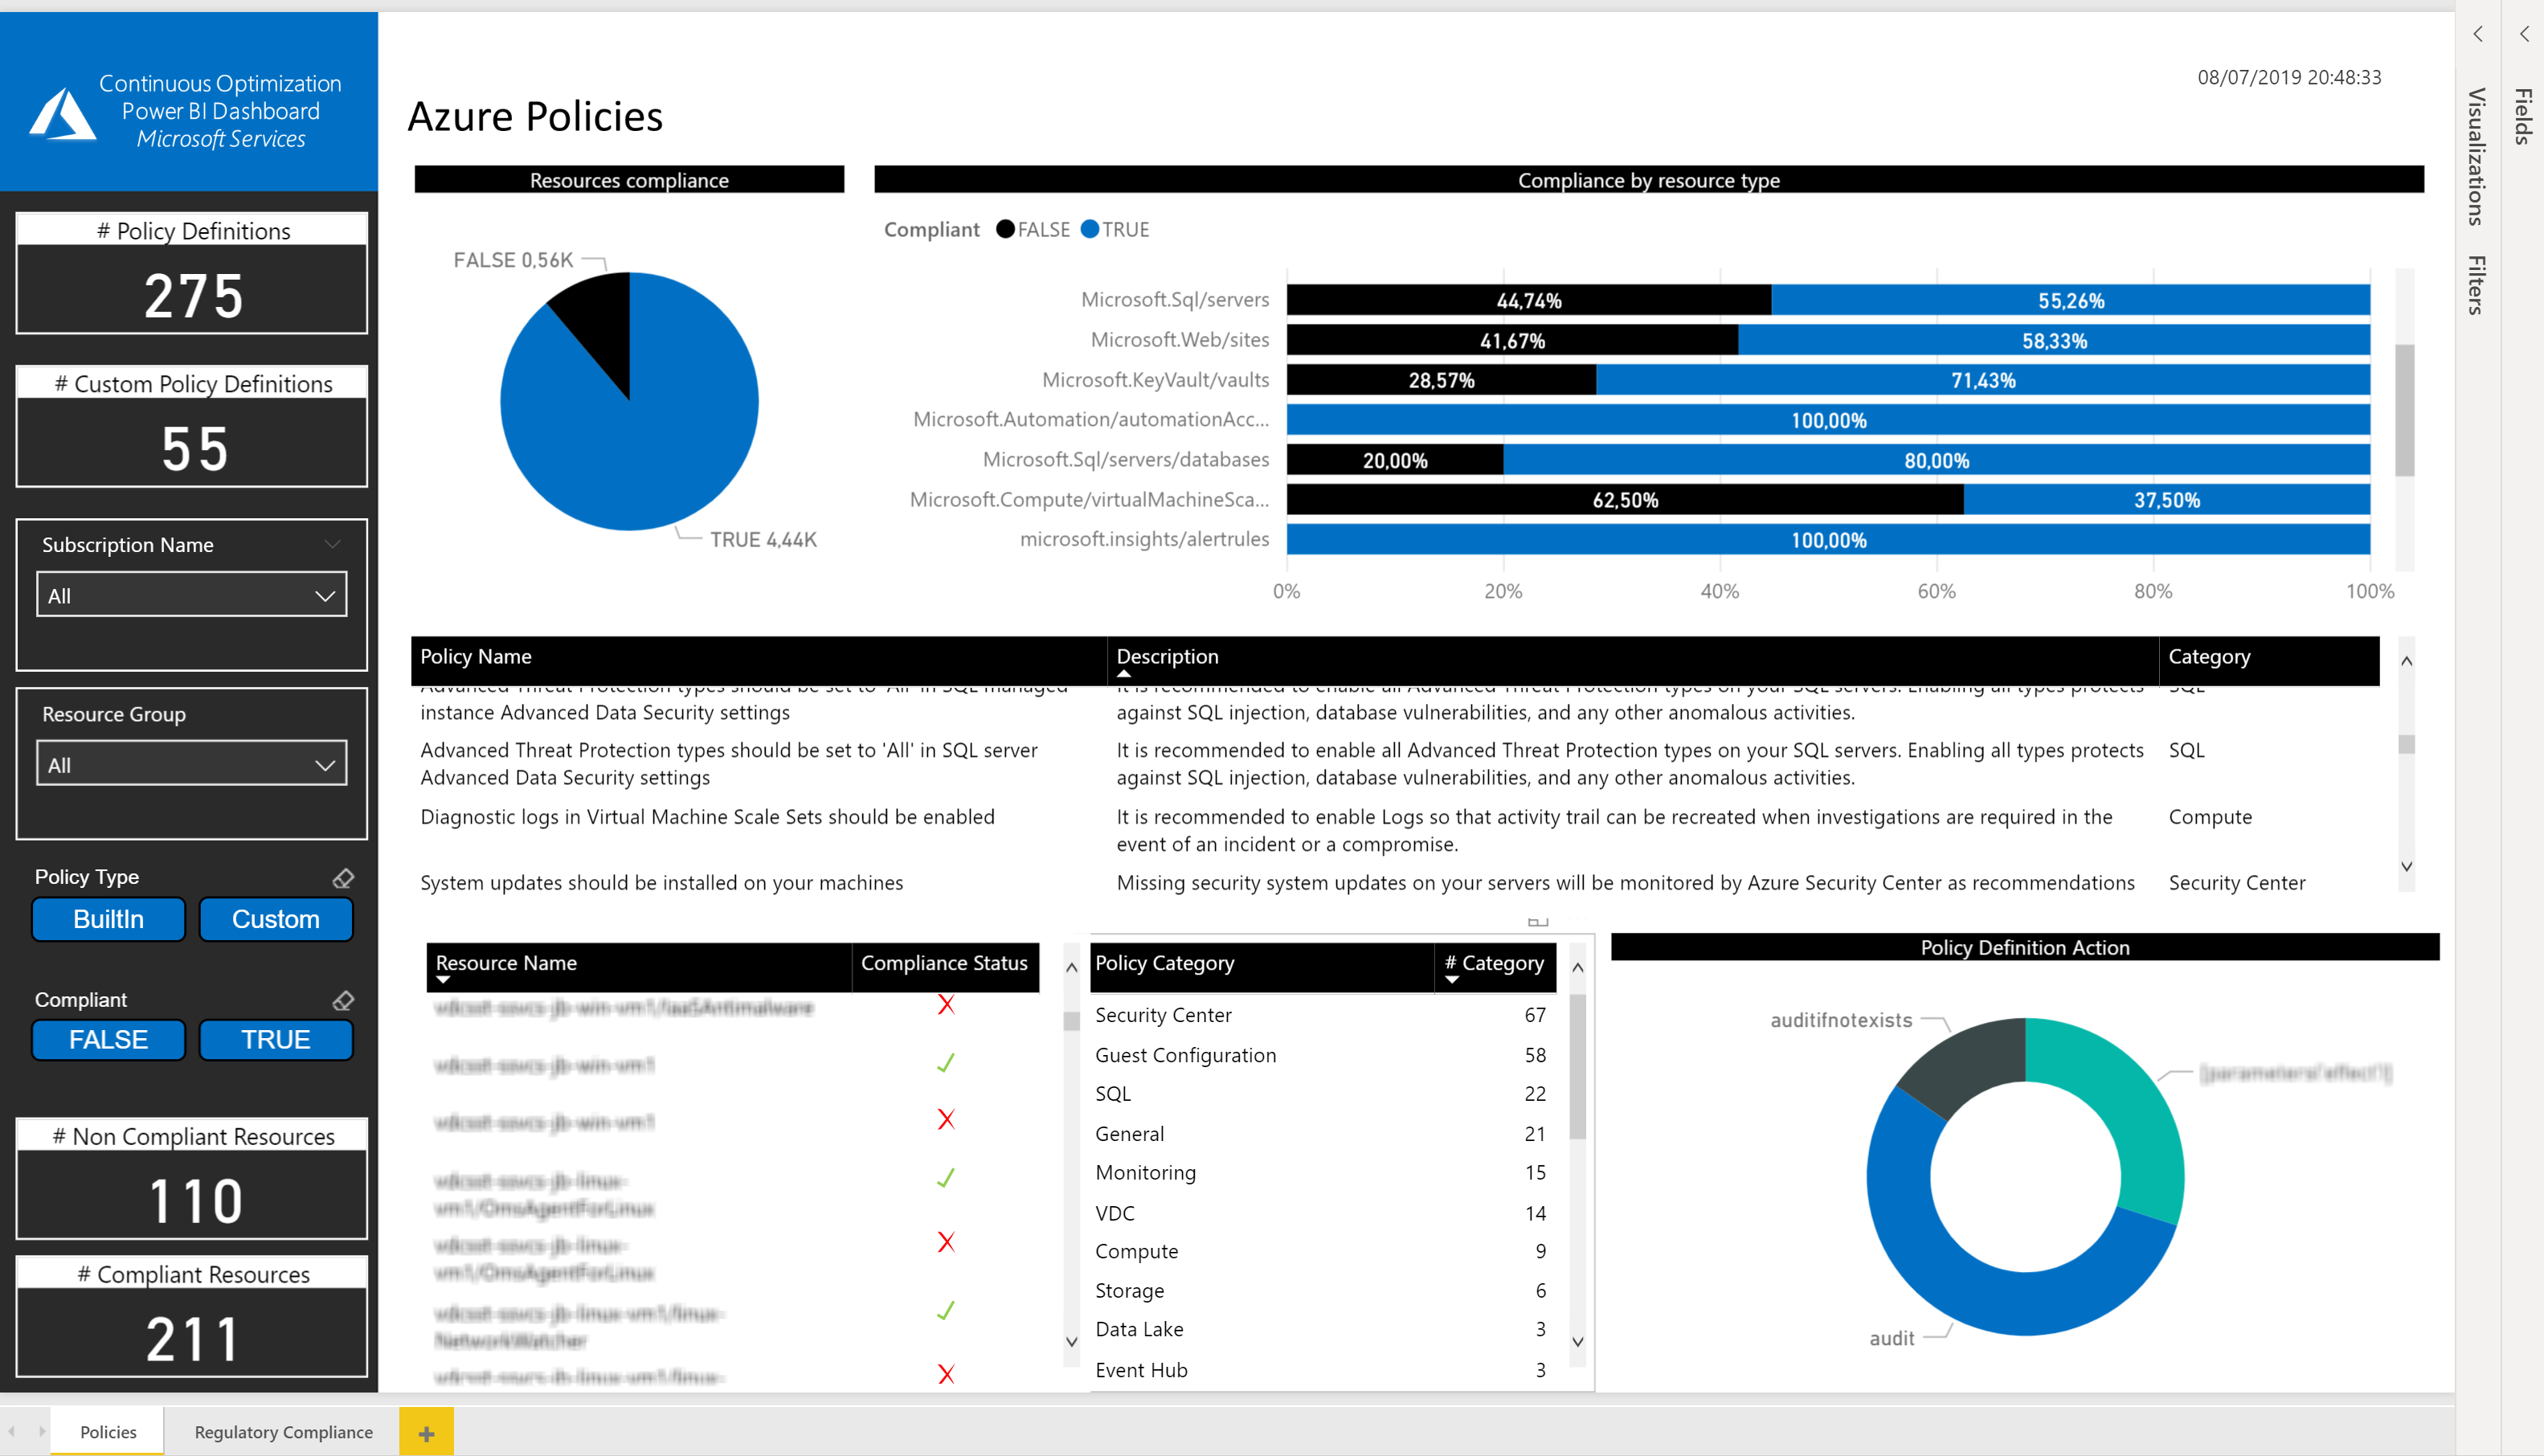

The dashboard page shown, as its layout file describes it:
{"tool":"powerbi","page":{"name":"Policies","canvas":[1280,720],"ordinal":0},"visuals":[{"type":"tableEx","fields":{"Values":["Max(LastRefresh_Local.Refresh)"]},"box":[1134.7,0,145.2,54.2],"z":0},{"type":"tableEx","title":"Policies by category","fields":{"Values":["PolicyDefinitions.category","CountNonNull(PolicyDefinitions.category)"]},"box":[568,480,272,240],"z":1000},{"type":"slicer","fields":{"Values":["Resources.Subscription Name"]},"box":[8,264,184,80],"z":2000},{"type":"ChicletSlicer1448559807354","fields":{"Category":["PolicyDefinitions.policyType"]},"box":[8,456,184,72],"z":3000},{"type":"tableEx","fields":{"Values":["PolicyDefinitions.displayName","PolicyDefinitions.description","PolicyDefinitions.category"]},"box":[208,320,1056,152],"z":4000},{"type":"pieChart","title":"Resources compliance","fields":{"Category":["policies.isCompliant"],"Y":["CountNonNull(policies.isCompliant)"]},"box":[216,80,224,232],"z":5000},{"type":"card","title":"# Policy Definitions","fields":{"Values":["CountNonNull(PolicyDefinitions.Value.id)"]},"box":[8,104,184,64],"z":6000},{"type":"card","title":"# Custom Policy Definitions","fields":{"Values":["CountNonNull(PolicyDefinitions.Value.id)"]},"box":[8,184,184,64],"z":7000},{"type":"hundredPercentStackedBarChart","title":"Compliance by resource type","fields":{"Category":["Resources.Resource Type"],"Y":["CountNonNull(policies.resourceType)"],"Series":["policies.isCompliant"]},"box":[456,80,808,240],"z":8000},{"type":"tableEx","fields":{"Values":["Resources.Resource Name","policies.Compliance Status"]},"box":[216,480,352,240],"z":9000},{"type":"ChicletSlicer1448559807354","fields":{"Category":["policies.isCompliant"]},"box":[8,536,184,72],"z":10000},{"type":"slicer","fields":{"Values":["policies.resourceGroup"]},"box":[8,360,184,80],"z":11000},{"type":"donutChart","title":"Policy Definition Action","fields":{"Category":["policies.policyDefinitionAction"],"Y":["CountNonNull(policies.policyDefinitionAction)"]},"box":[840,480,432,240],"z":12000}]}

Visuals, with their boxes on the page's 1280x720 design canvas (x1, y1, x2, y2). These are canvas units, not pixel positions in the 2544x1456 screenshot, which may show the page scaled, cropped or inside an application window:
tableEx - Max(LastRefresh_Local.Refresh): <bbox>1135, 0, 1280, 54</bbox>
"Policies by category" tableEx: <bbox>568, 480, 840, 720</bbox>
slicer - Resources.Subscription Name: <bbox>8, 264, 192, 344</bbox>
ChicletSlicer1448559807354 - PolicyDefinitions.policyType: <bbox>8, 456, 192, 528</bbox>
tableEx - PolicyDefinitions.displayName x PolicyDefinitions.description: <bbox>208, 320, 1264, 472</bbox>
"Resources compliance" pieChart: <bbox>216, 80, 440, 312</bbox>
"# Policy Definitions" card: <bbox>8, 104, 192, 168</bbox>
"# Custom Policy Definitions" card: <bbox>8, 184, 192, 248</bbox>
"Compliance by resource type" hundredPercentStackedBarChart: <bbox>456, 80, 1264, 320</bbox>
tableEx - Resources.Resource Name x policies.Compliance Status: <bbox>216, 480, 568, 720</bbox>
ChicletSlicer1448559807354 - policies.isCompliant: <bbox>8, 536, 192, 608</bbox>
slicer - policies.resourceGroup: <bbox>8, 360, 192, 440</bbox>
"Policy Definition Action" donutChart: <bbox>840, 480, 1272, 720</bbox>
